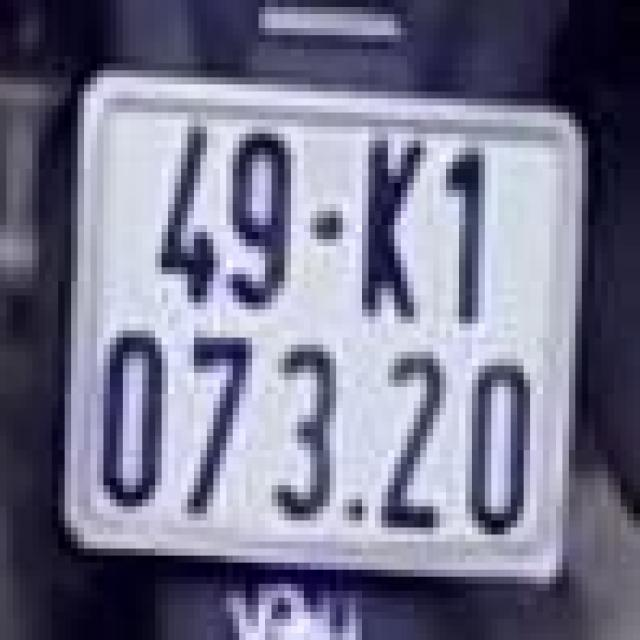0: (452, 341, 550, 559), (90, 306, 174, 538)
1: (440, 134, 498, 338)
2: (369, 334, 446, 545)
3: (265, 320, 349, 531)
4: (142, 102, 226, 306)
7: (184, 316, 256, 528)
9: (220, 116, 310, 306)
K: (336, 112, 420, 330)
